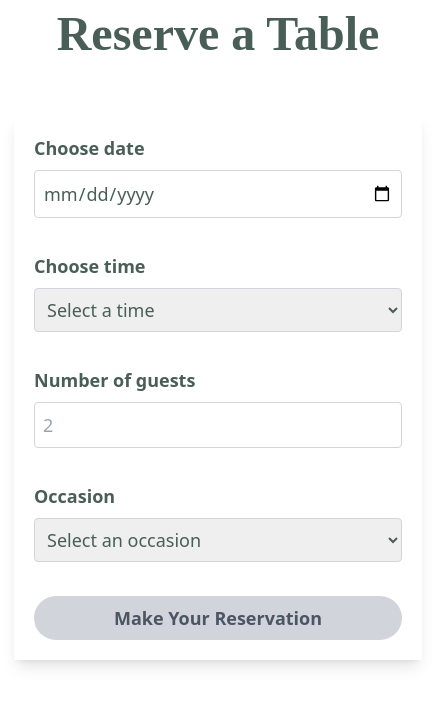
Test: Validates occasion input
This screenshot has width=437, height=718.
Select "Select an occasion" in the dropdown labelled "Occasion" at x=218, y=540, box [34,518,402,562]
Leave the dropdown labelled "Occasion", box [34,518,402,562]
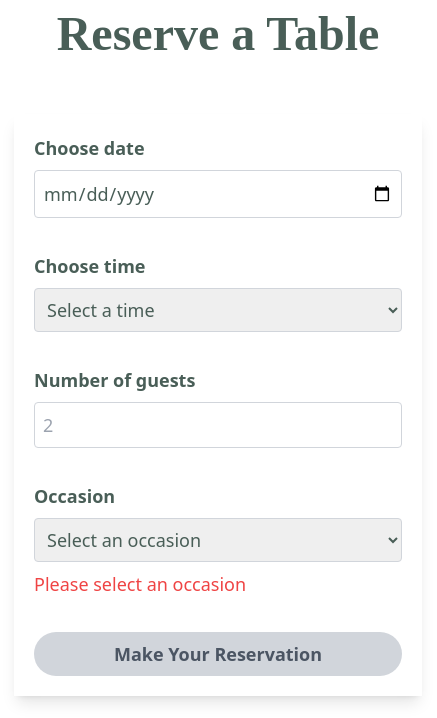
Check: the text "Please select an occasion" is shown, box [34,572,246,596]
